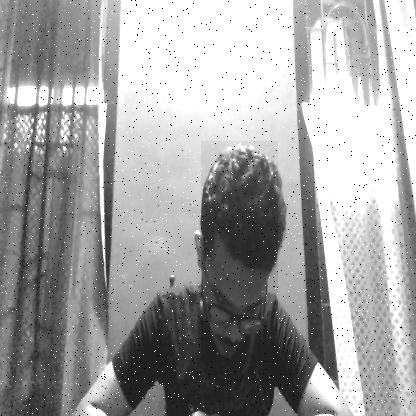Distracted: (201, 141, 278, 363)
